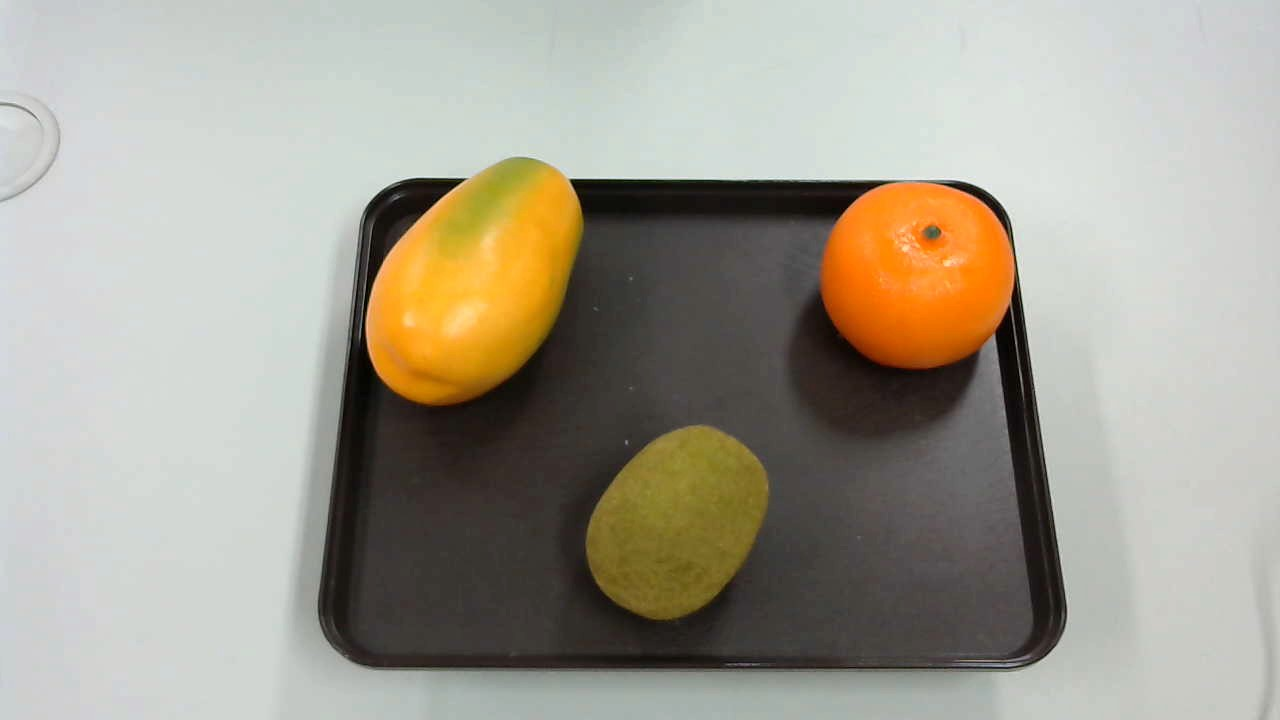kiwi fruit: (581, 420, 774, 619)
orange: (814, 178, 1018, 373)
papya: (360, 154, 590, 410)
